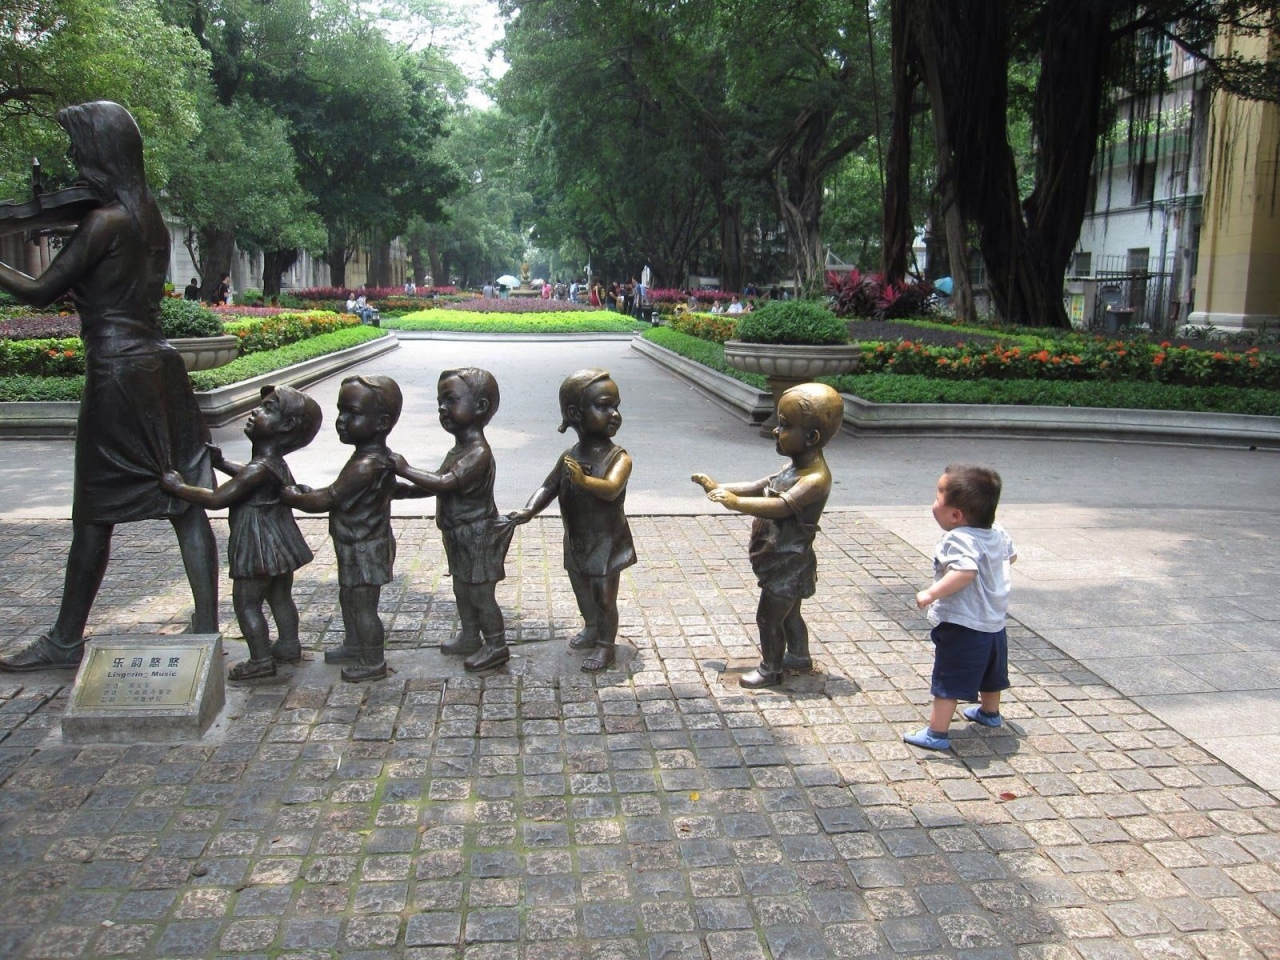person: (892, 455, 1021, 758)
person-like: (1, 97, 224, 679), (156, 377, 327, 685), (685, 379, 850, 693), (501, 365, 649, 680), (384, 362, 518, 676), (284, 369, 411, 687)
